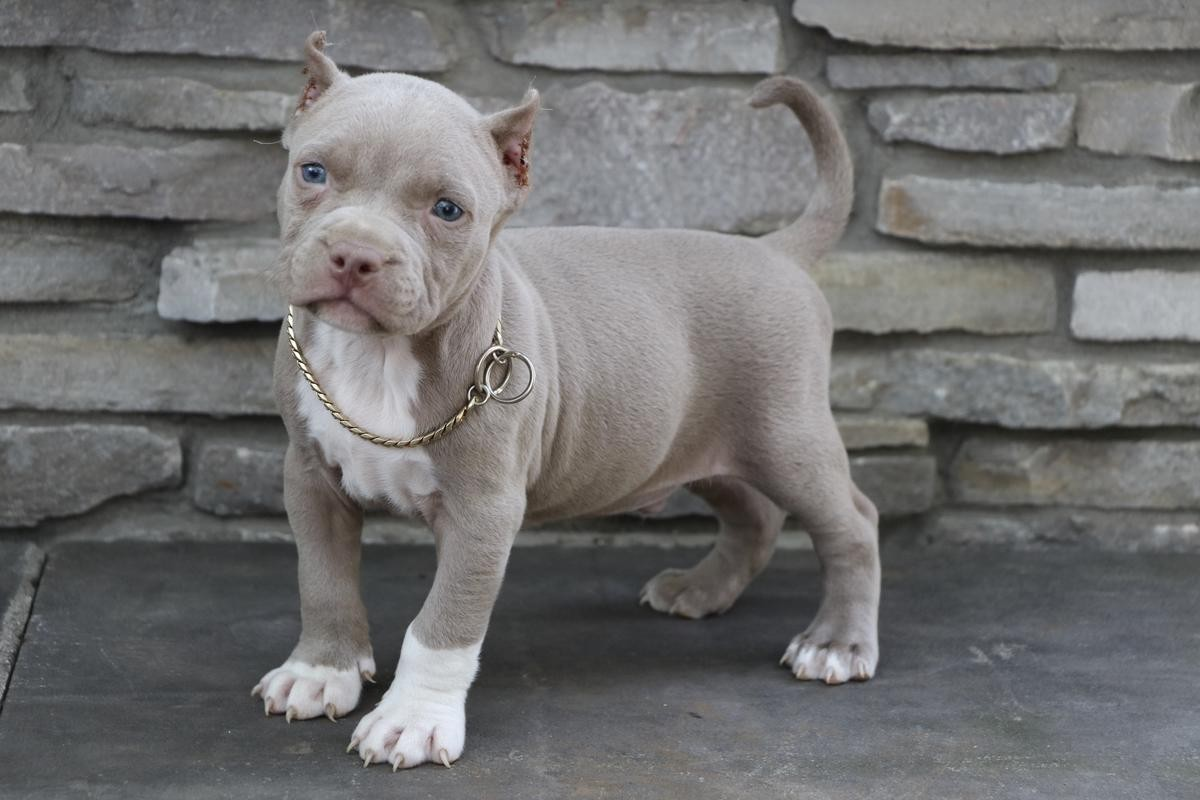am_pit_bull_terrier: (250, 25, 881, 771)
